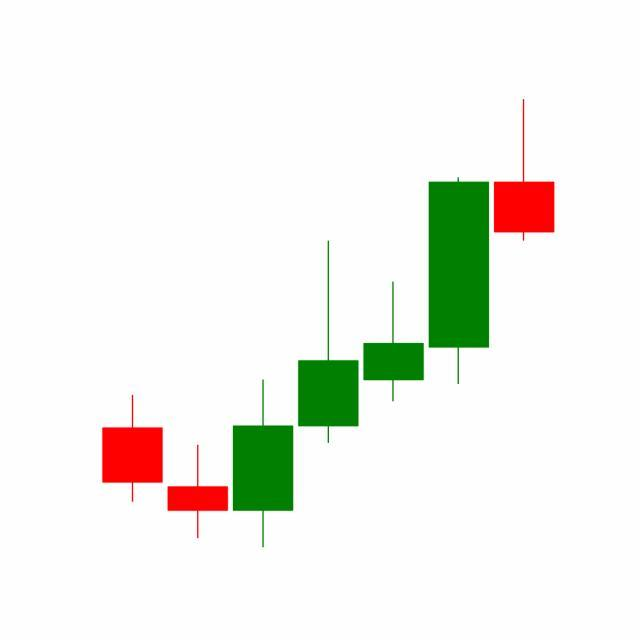Hikkake Pattern: (165, 174, 492, 549)
